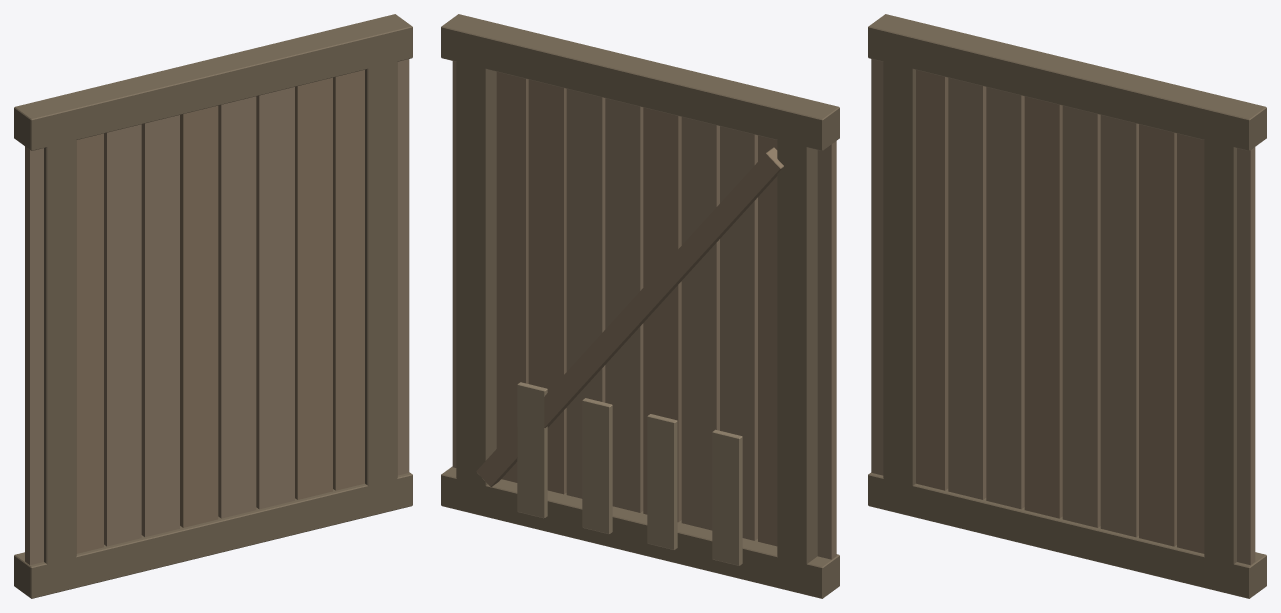
The model's file is env_wall_plank_repaired_c_v02_lower_repairs.glb.
The picture shows the model from 3 angles, left to right: view 1: azimuth 30°, elevation 25°; view 2: azimuth 150°, elevation 25°; view 3: azimuth 330°, elevation 25°; orthographic projection.
Parts seen in each view (by area): view 1: material_1, material_2, material_0; view 2: material_2, material_1, material_0, material_3; view 3: material_1, material_2, material_0.
Part boxes in pixels (x1,y1,x2,y2): material_1: (25, 59, 409, 565); material_2: (14, 14, 412, 598); material_0: (76, 70, 364, 553); material_2: (441, 14, 839, 598); material_1: (452, 61, 836, 559); material_0: (476, 72, 783, 546); material_3: (517, 382, 742, 565); material_1: (871, 59, 1255, 565); material_2: (868, 14, 1266, 598); material_0: (916, 70, 1204, 553).
Size of the model in its own units: 2 by 2.4 by 0.19.
